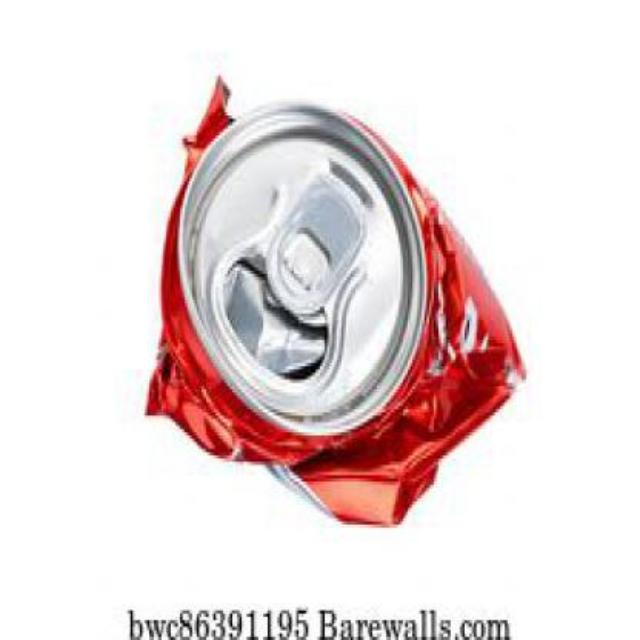metal: (146, 78, 520, 523)
